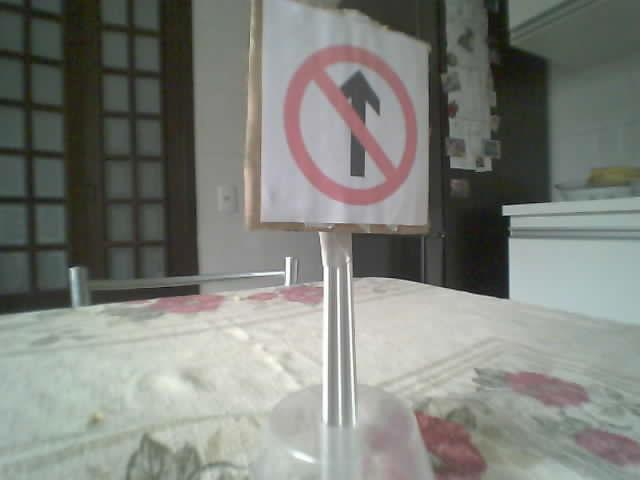R-3_sentido-proibido: (282, 44, 417, 204)
